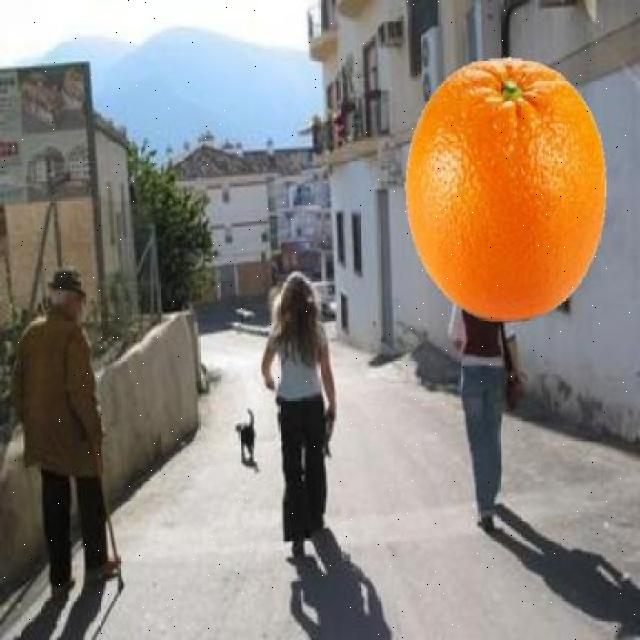Orange: (403, 56, 608, 322)
